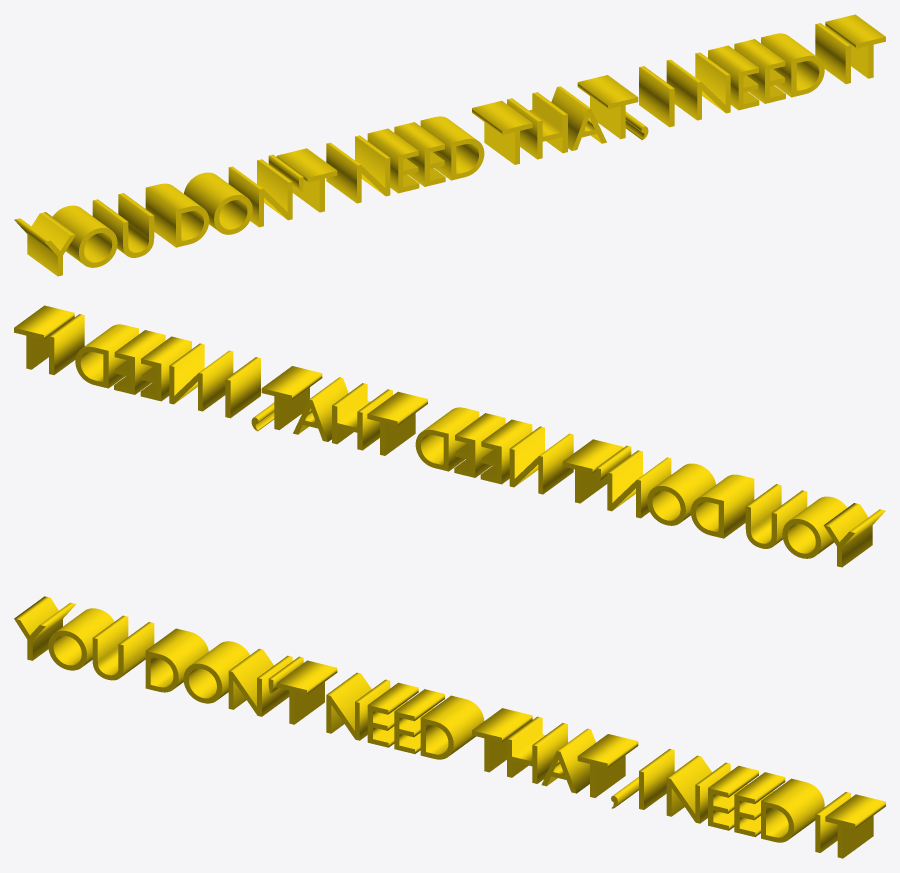
Rendered from Greed3.fbx.
3 renders of one model, top to bottom at view 1: azimuth 30°, elevation 25°; view 2: azimuth 150°, elevation 25°; view 3: azimuth 330°, elevation 25°, orthographic.
Parts seen in each view (by area): view 1: Text; view 2: Text; view 3: Text.
Boxes of the visible parts, bbox=[...] form: Text: bbox=[14, 14, 885, 276]; Text: bbox=[14, 305, 885, 567]; Text: bbox=[14, 596, 885, 858].
Bounding box in the file's own units: 1592 × 83.4 × 100.
